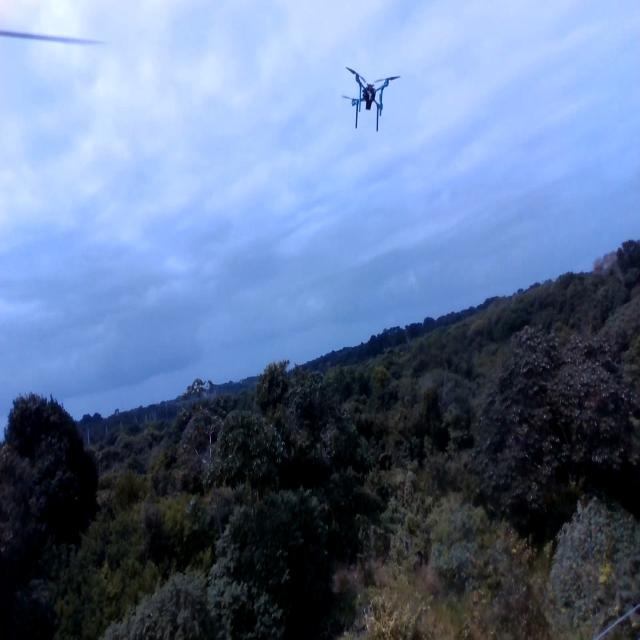-uav-: (331, 49, 405, 151)
